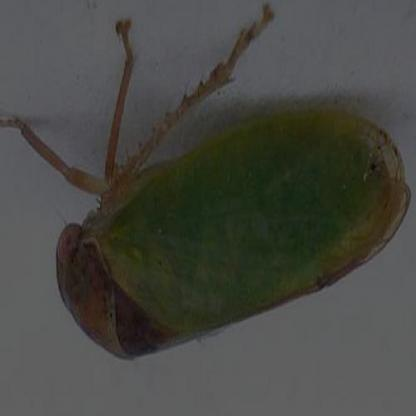green-leafhopper: (52, 110, 405, 360)
